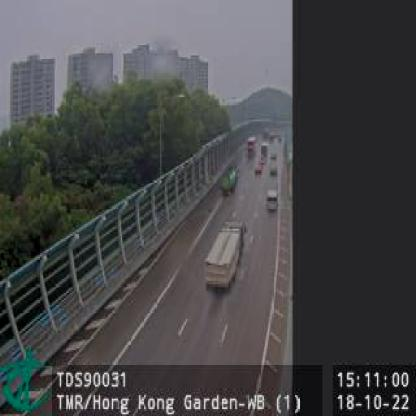Car: (266, 188, 278, 212), (254, 162, 264, 175), (269, 166, 279, 178)
Truck: (204, 223, 246, 291), (218, 163, 240, 197)
